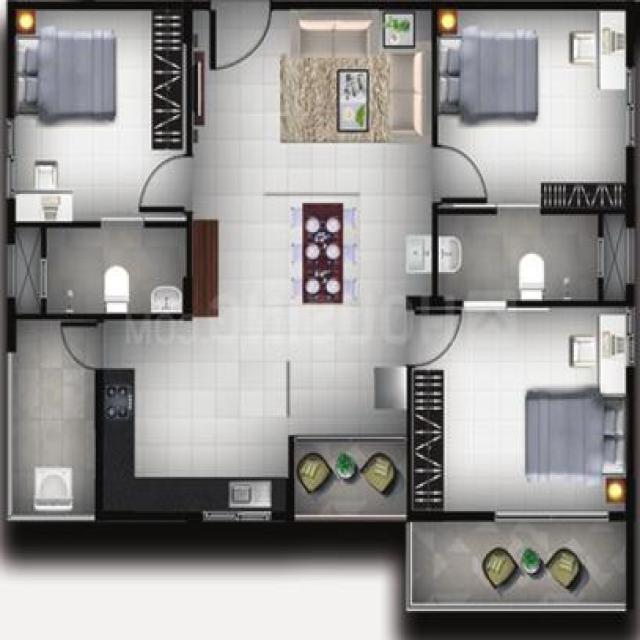Balcony-Sitout: (411, 523, 625, 610), (294, 441, 408, 519)
Bedroom: (412, 308, 629, 512), (436, 11, 626, 203), (15, 11, 186, 221)
Dining: (279, 193, 367, 314)
Enterance-Foyer: (207, 0, 274, 74)
Kitchen: (101, 320, 291, 511)
Living: (192, 10, 431, 179)
Toilet: (439, 215, 597, 301), (48, 227, 186, 313)
Utility: (13, 321, 96, 515)
